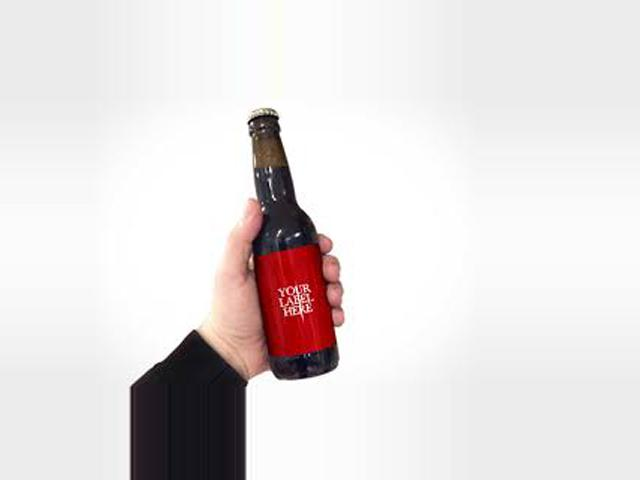beer: (245, 106, 340, 379)
